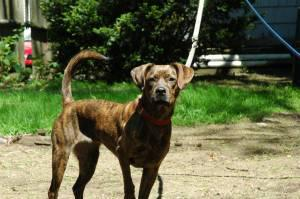dog-american_pit_bull_terrier: (129, 61, 193, 109)
